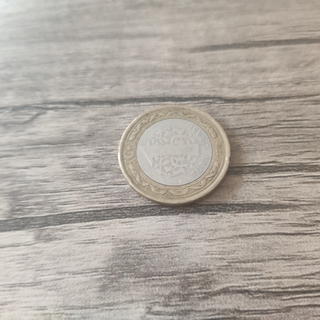1TL: (116, 102, 232, 207)
